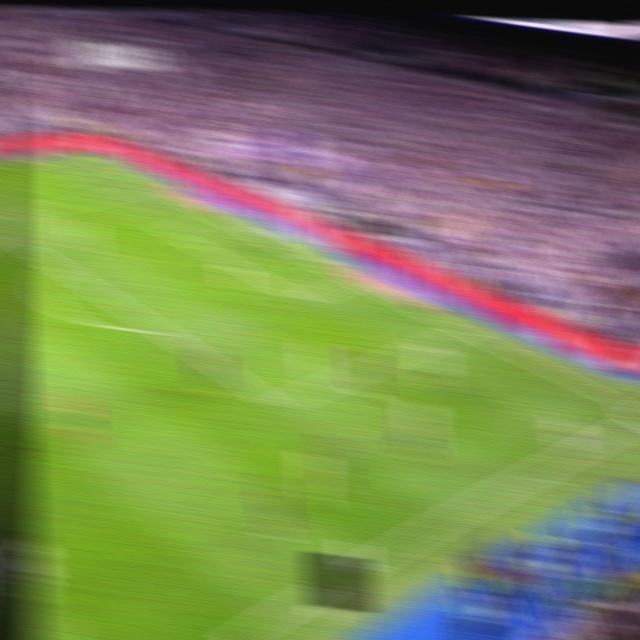bigarea_bottom_inner: (263, 389, 291, 418)
bigarea_bottom_outter: (449, 319, 476, 338)
bigarea_top_outter: (138, 178, 161, 193)
bottom_arc_area_intersection: (145, 317, 172, 340)
corner: (68, 146, 93, 160)
smallarea_bottom_inner: (290, 287, 314, 308)
smallarea_top_inner: (159, 224, 180, 237)
top_arc_area_intersection: (44, 255, 70, 273)
